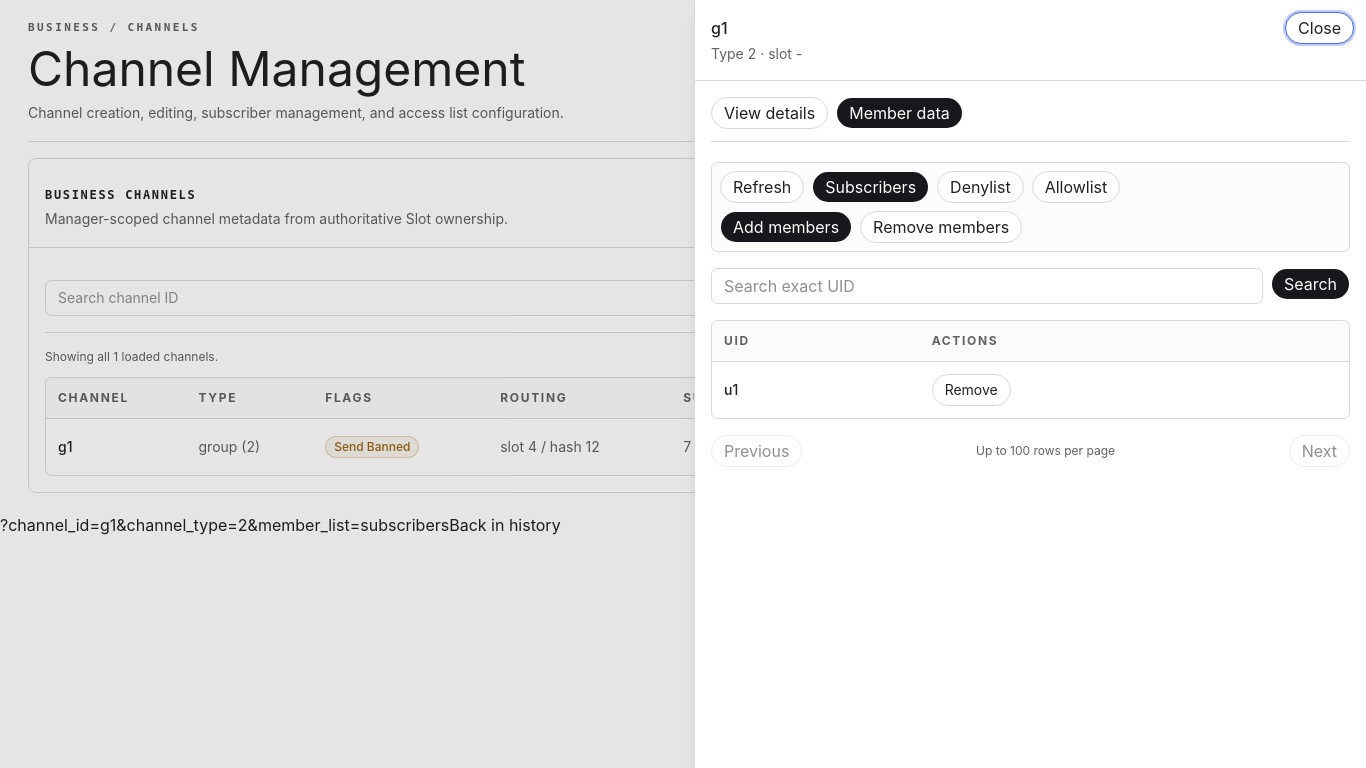
Test: performs exact UID hit and miss searches and clear returns to page one
Expected: the link "u1" is shown, [724, 381, 738, 398]
Expected: the form named "Exact UID" is shown, [711, 268, 1350, 304]
Type "exact-u" into the field labelled "exact UID" at (987, 286), box [711, 268, 1263, 304]
Click the button "Search" at (1310, 284), box [1271, 268, 1350, 300]
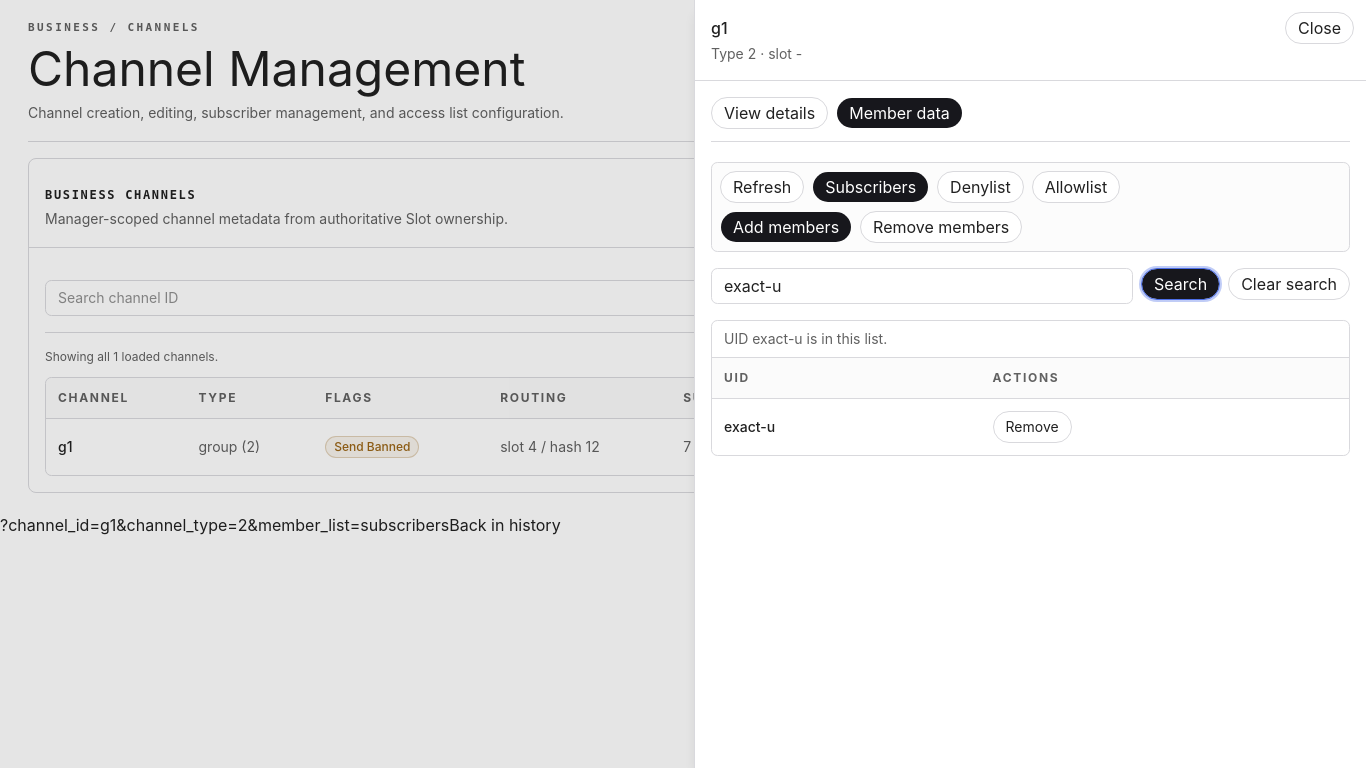
Now the text "UID exact-u is in this list." is shown, box [712, 321, 1349, 358]
Replace the text in the field named "exact UID" with "missing-u" at (922, 286), box [711, 268, 1133, 304]
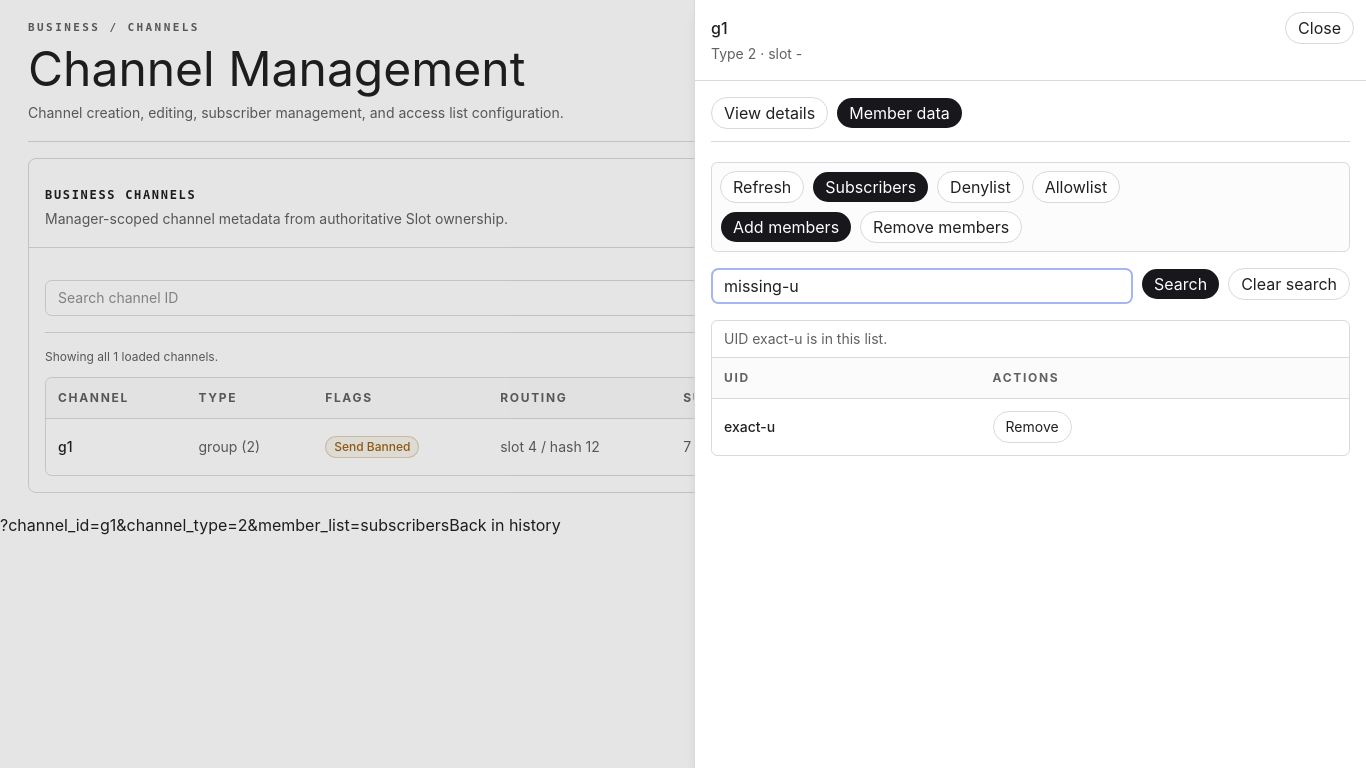
Click the button "Search" at (1181, 284), box [1141, 268, 1220, 300]
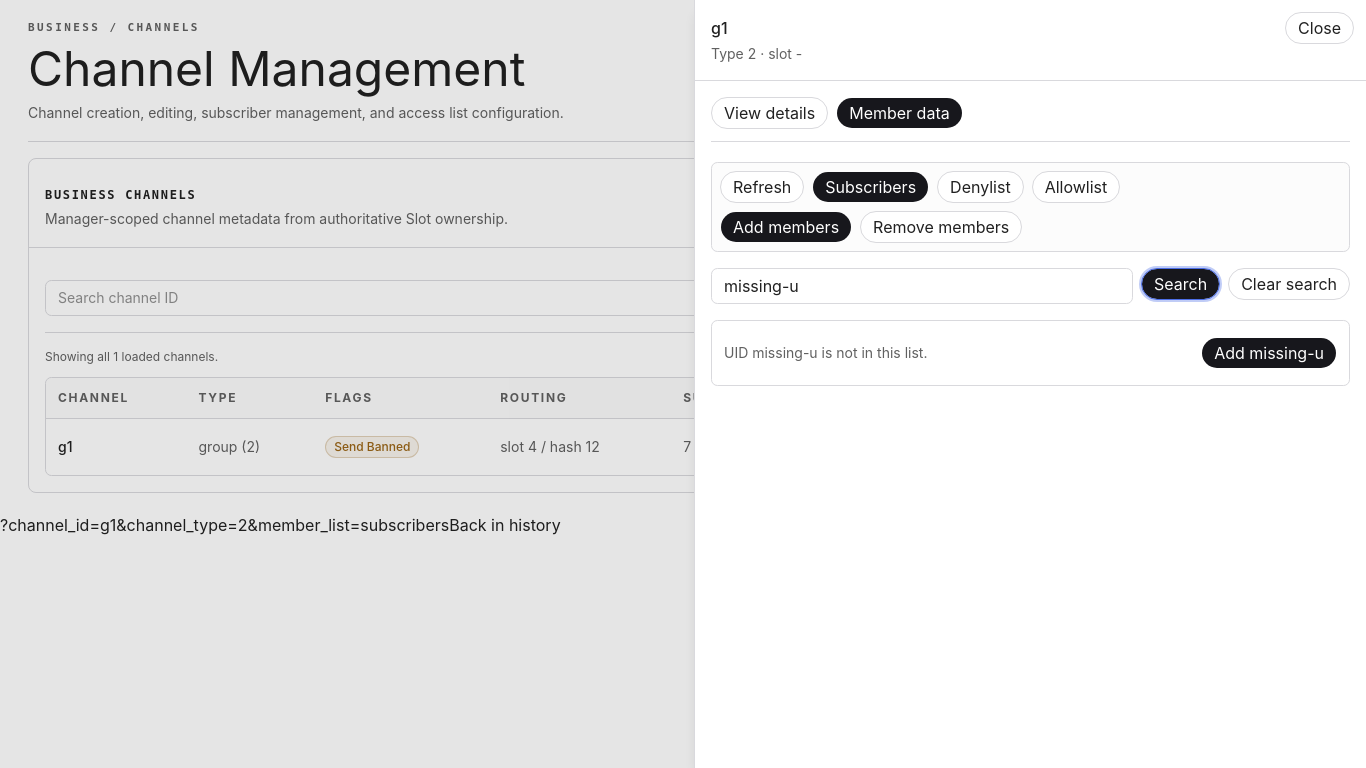
Now the text "UID missing-u is not in this list." is shown, box [724, 343, 927, 363]
Click the button "Add missing-u" at (1269, 353), box [1201, 337, 1337, 369]
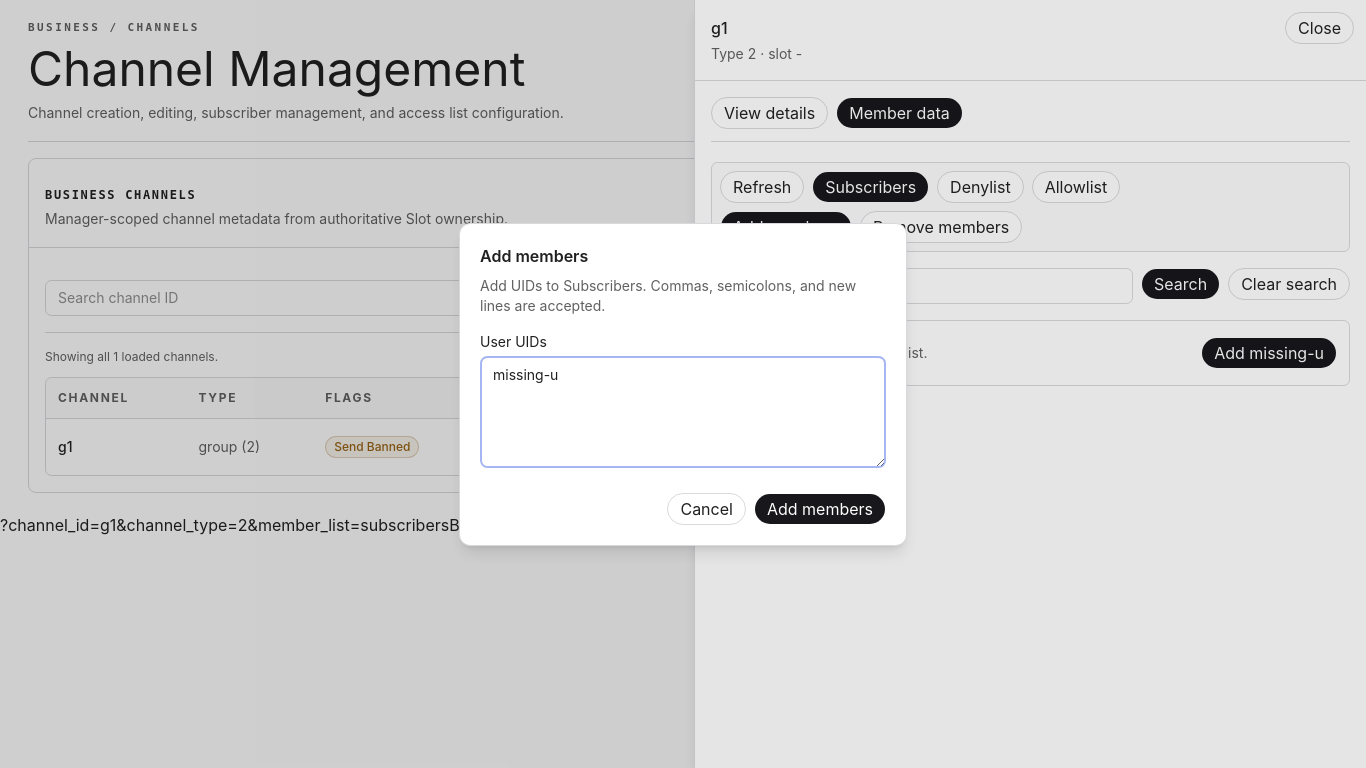
Now the dialog that starts with "Add members" is shown
Now the text box labelled "User UIDs" holds "missing-u", box [480, 356, 886, 468]
Click the button "Cancel" at (707, 508), box [667, 492, 746, 524]
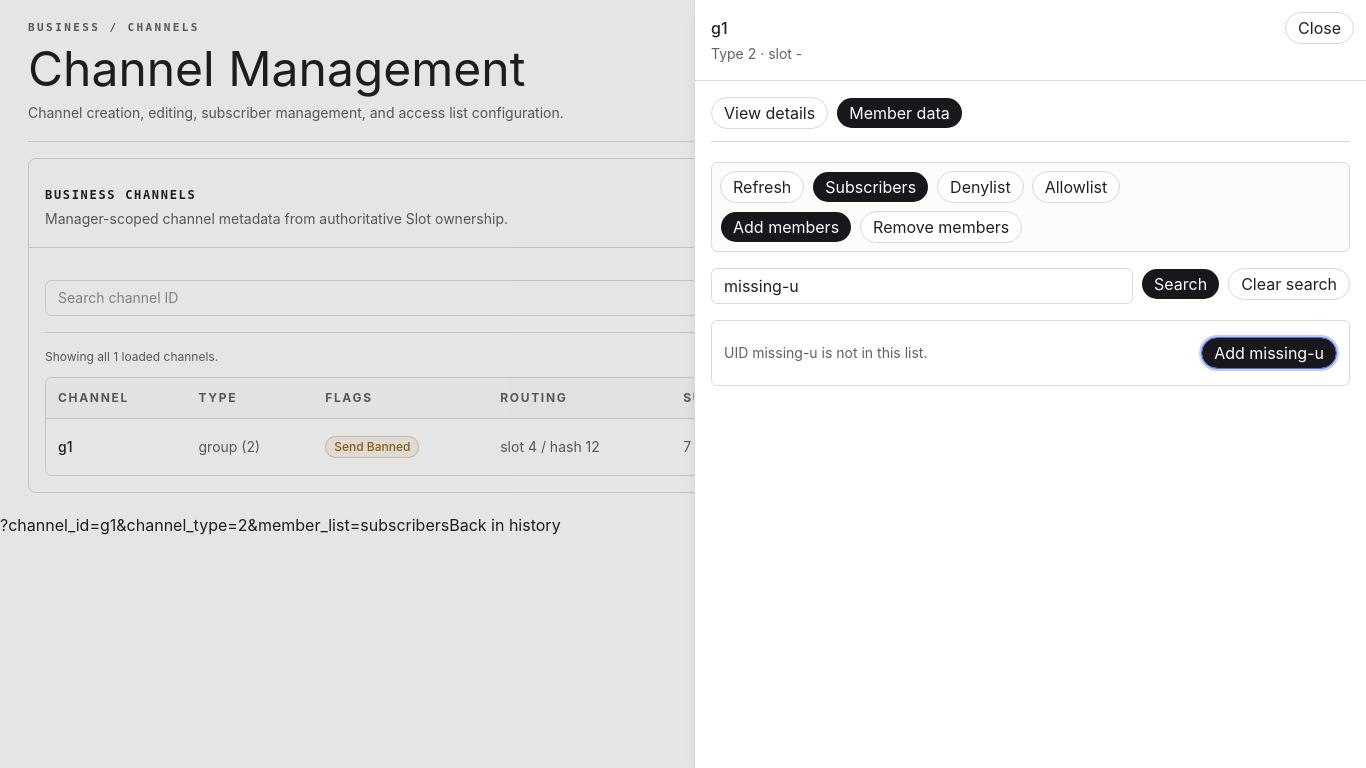
Click the button "Clear search" at (1289, 284), box [1228, 268, 1350, 300]
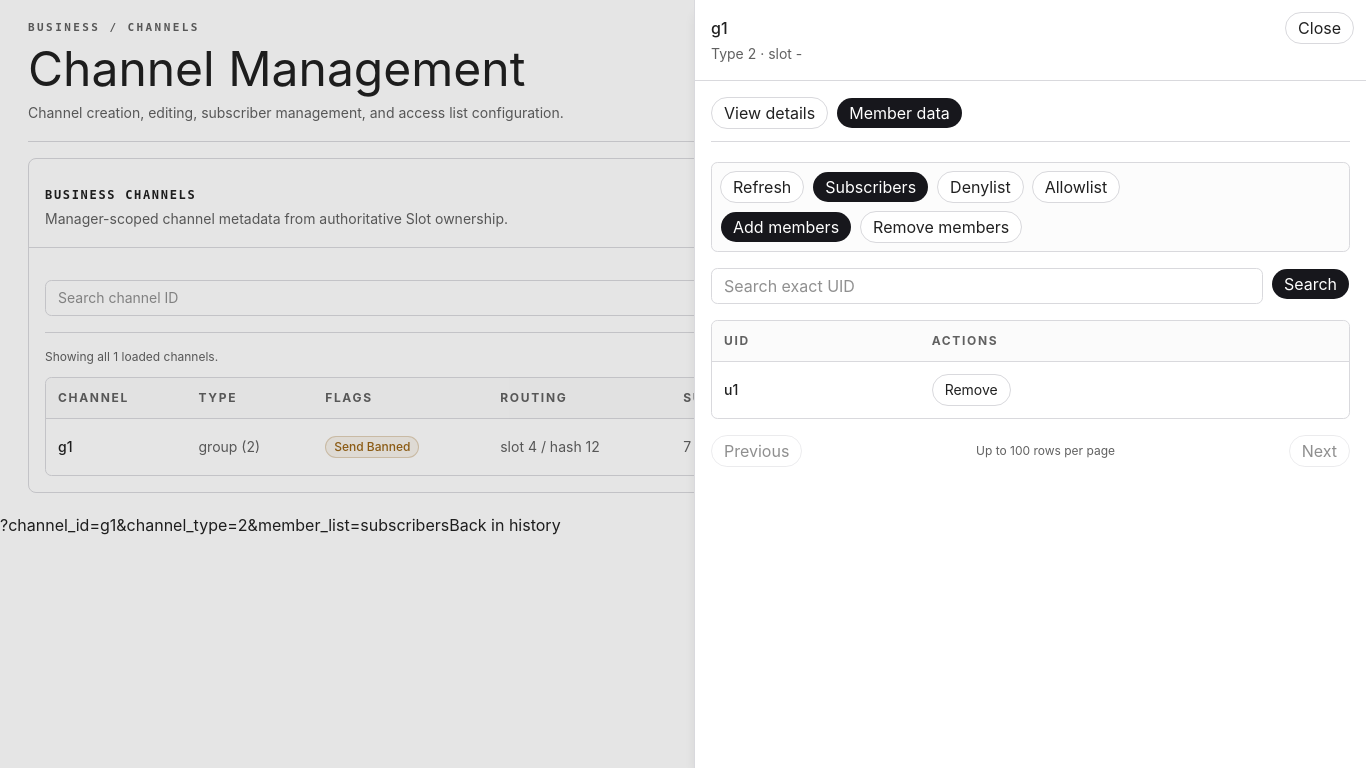
Now the link "u1" is shown, box [724, 381, 738, 398]
